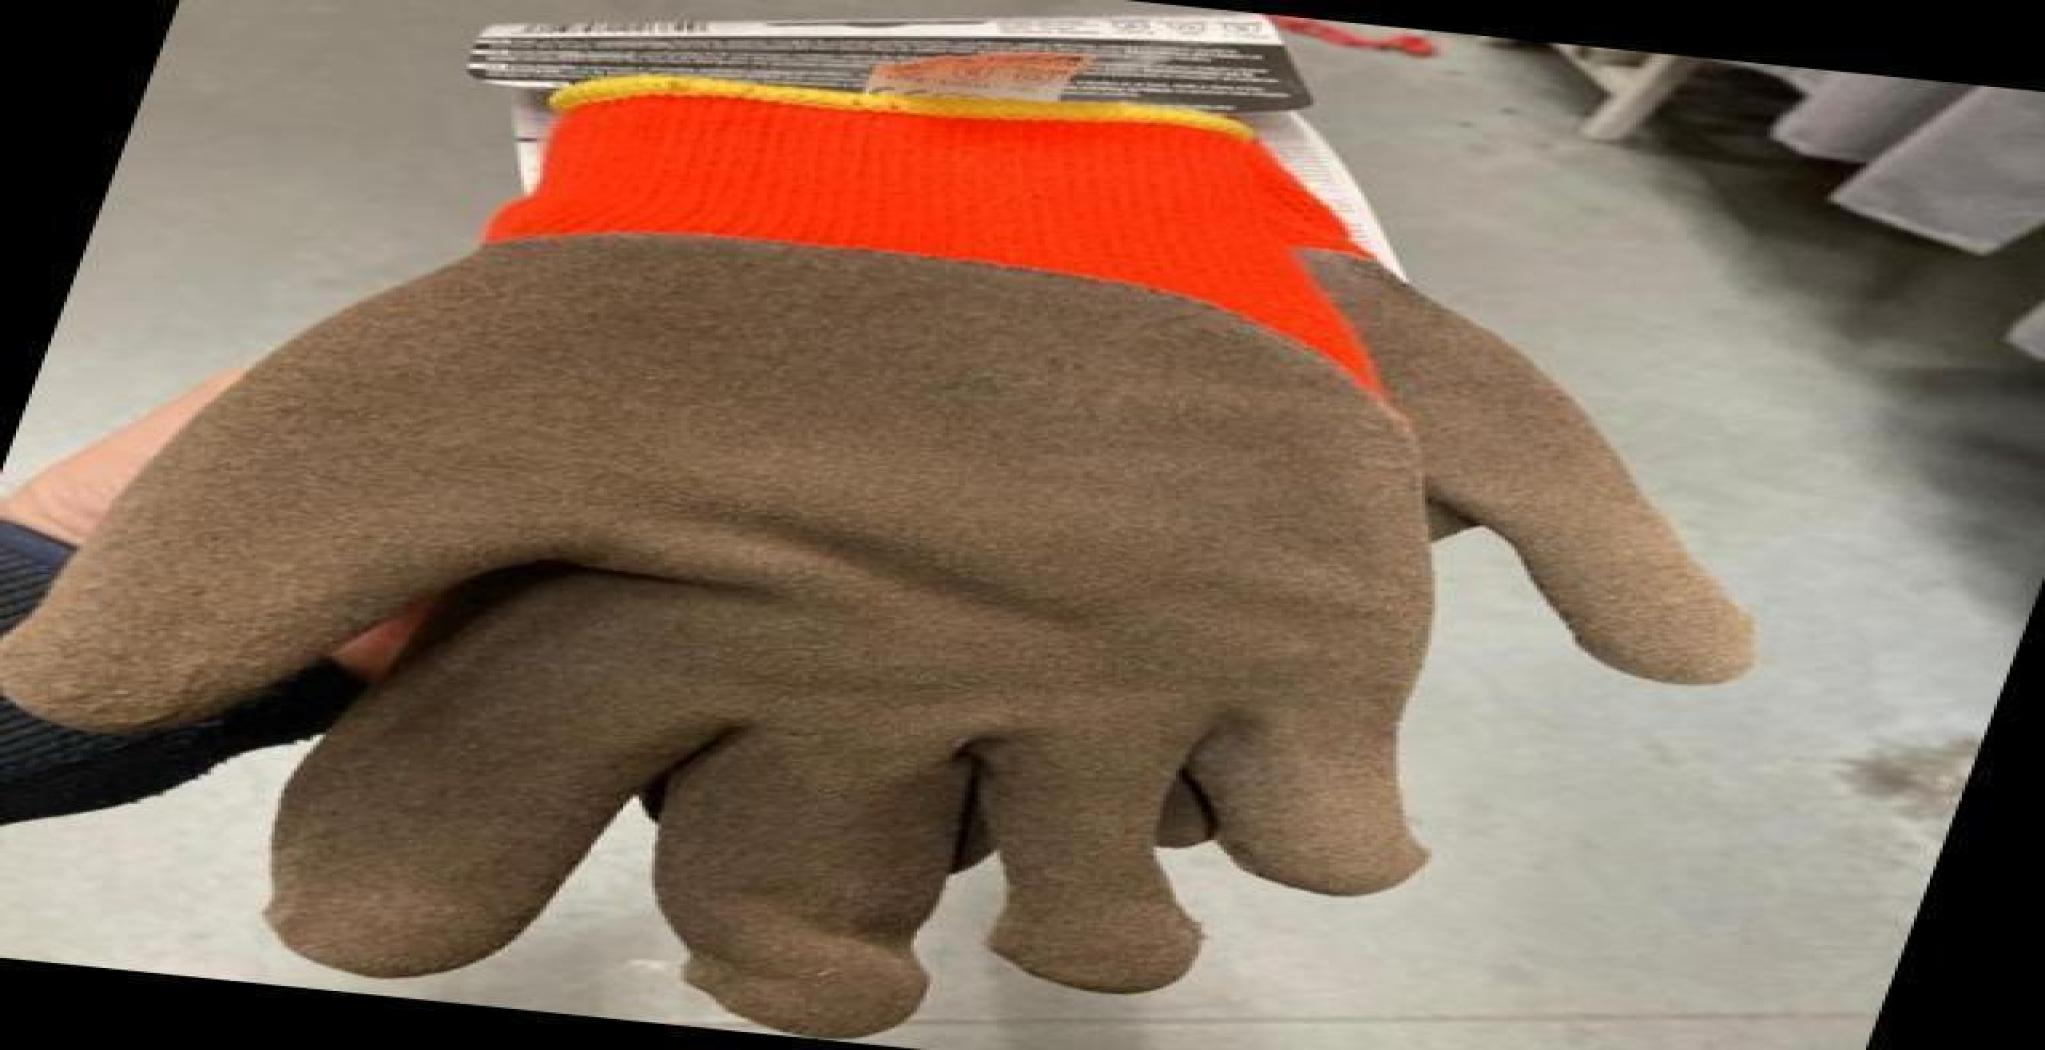gloved: (110, 64, 1761, 1019)
